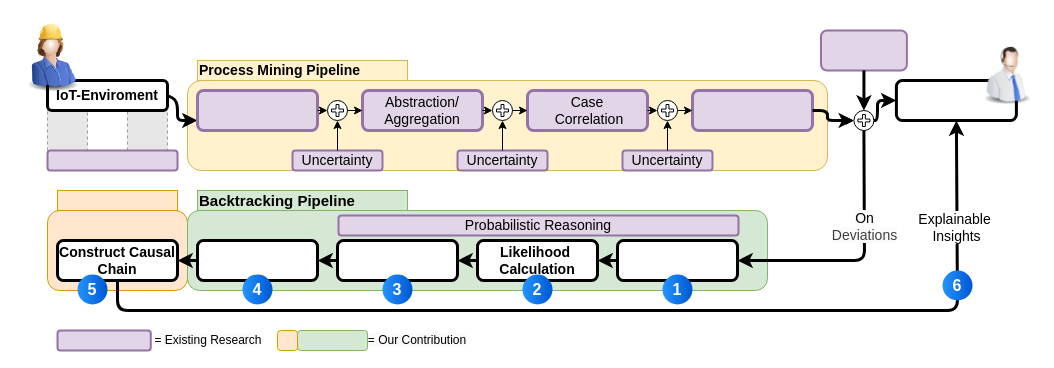
Some shapes in this 1054 by 368 pixel diagram are drawn without their labels. Grey dashed boxes stand in for pictures. The shapes that lost their labels are listed below. From the top down, each one's box as (x1, y1, x2, y2) in pixels, then its label:
(820, 29, 907, 71): Explainability
(196, 88, 318, 132): Preprocessing
(690, 88, 814, 132): Process Mining
(894, 78, 1017, 122): Provide Insights
(46, 149, 178, 171): Data Quality Issues
(56, 190, 178, 210): Insight Generation
(196, 238, 318, 282): Information Gain Calculation
(336, 238, 458, 282): Bayesian Update
(616, 238, 738, 282): Prior Probabilities
